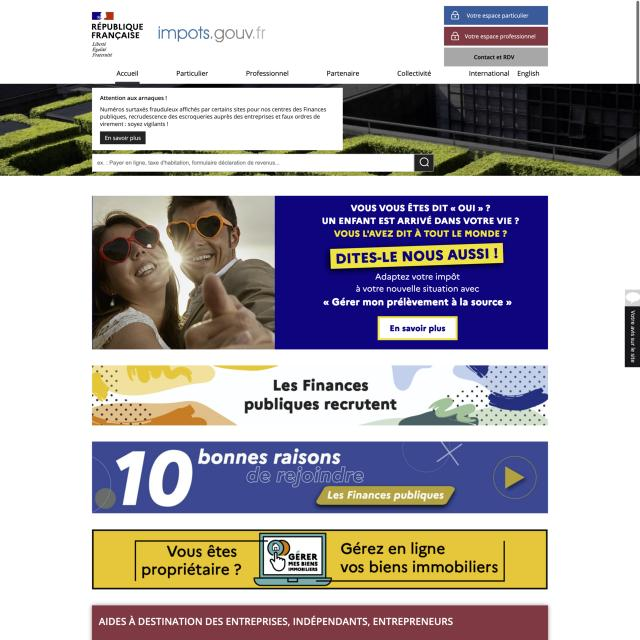input: (92, 153, 433, 172)
logo: (156, 24, 272, 44)
navigation: (112, 66, 543, 84)
